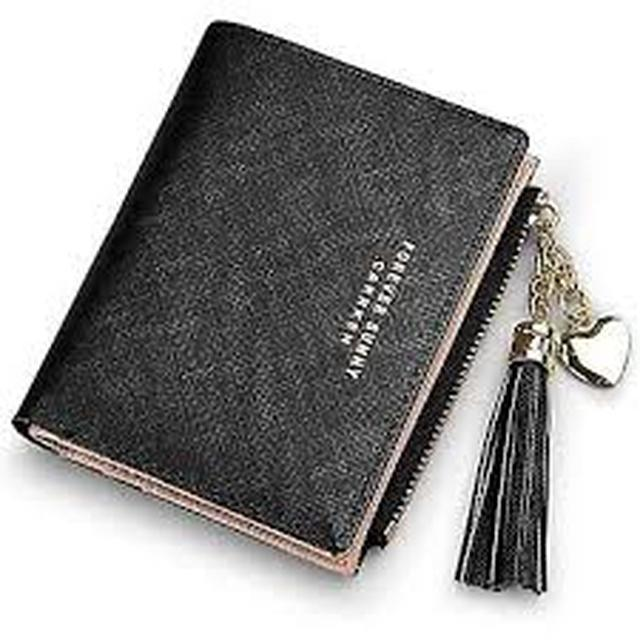wallet: (28, 5, 556, 582)
